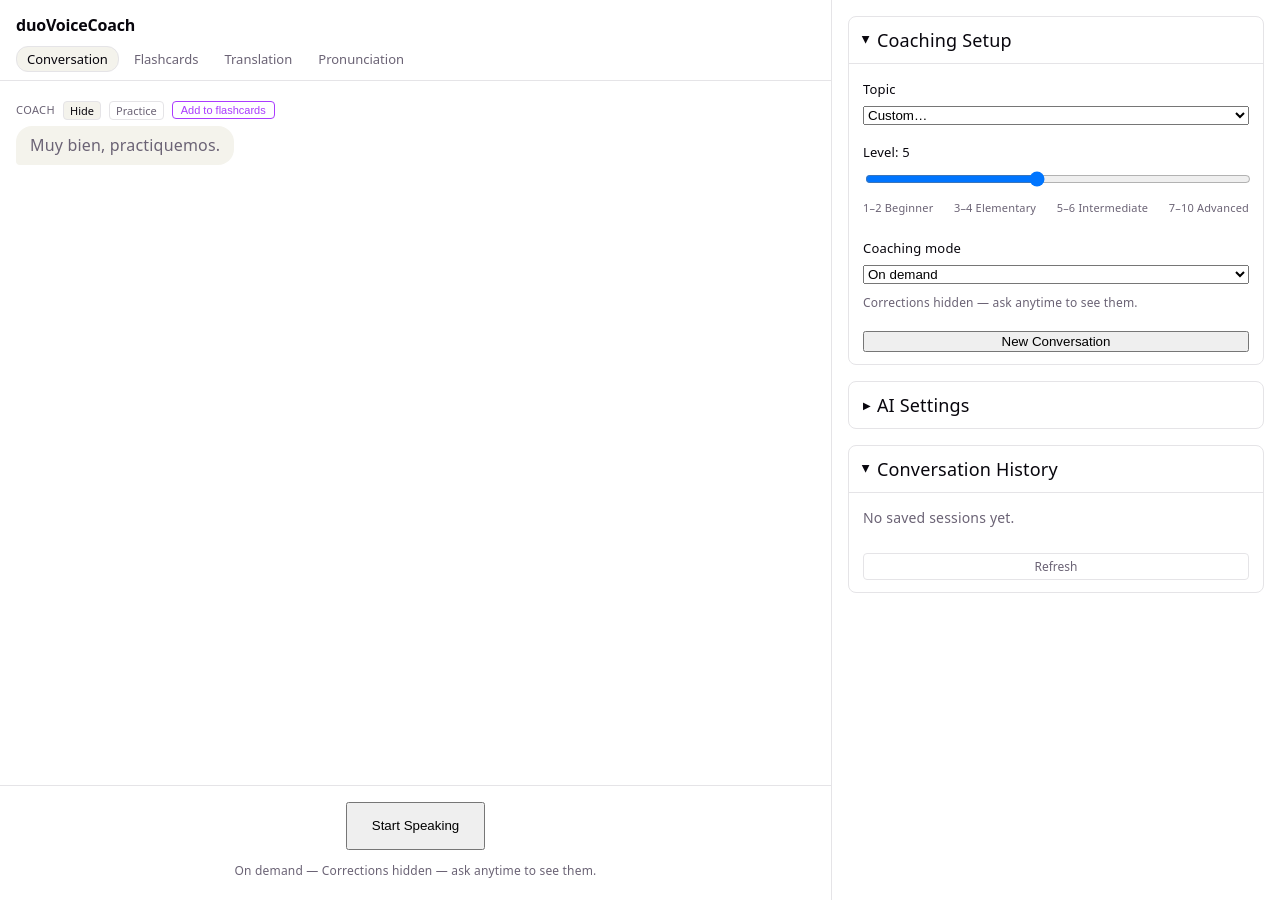
Test: App — Practice button cross-mode handoff › Back button in PronunciationView returns to conversation
Click the button "Practice".
click(136, 110)  # box [109,101,164,120]
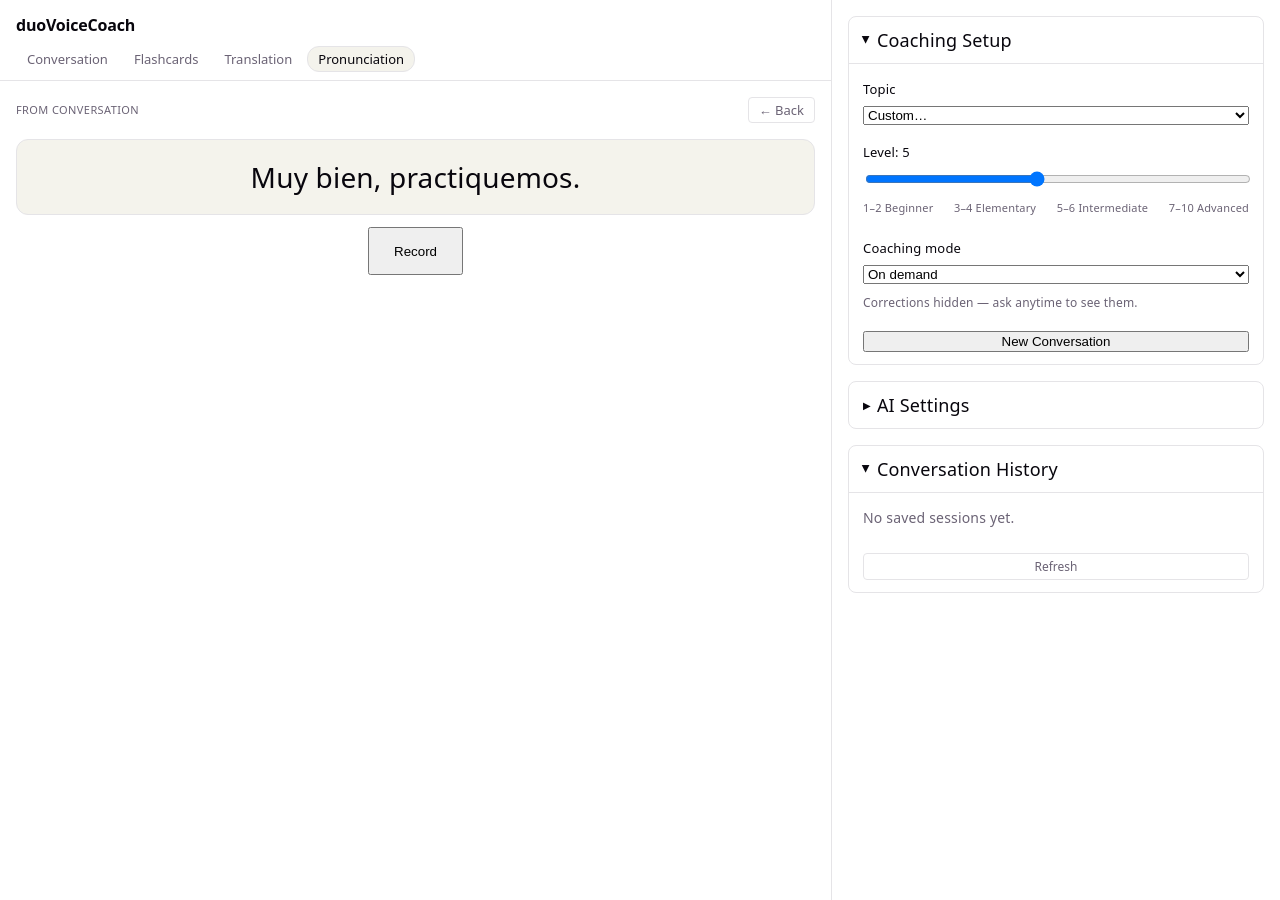
Click the button "← Back".
click(781, 110)  # box [748,97,815,123]
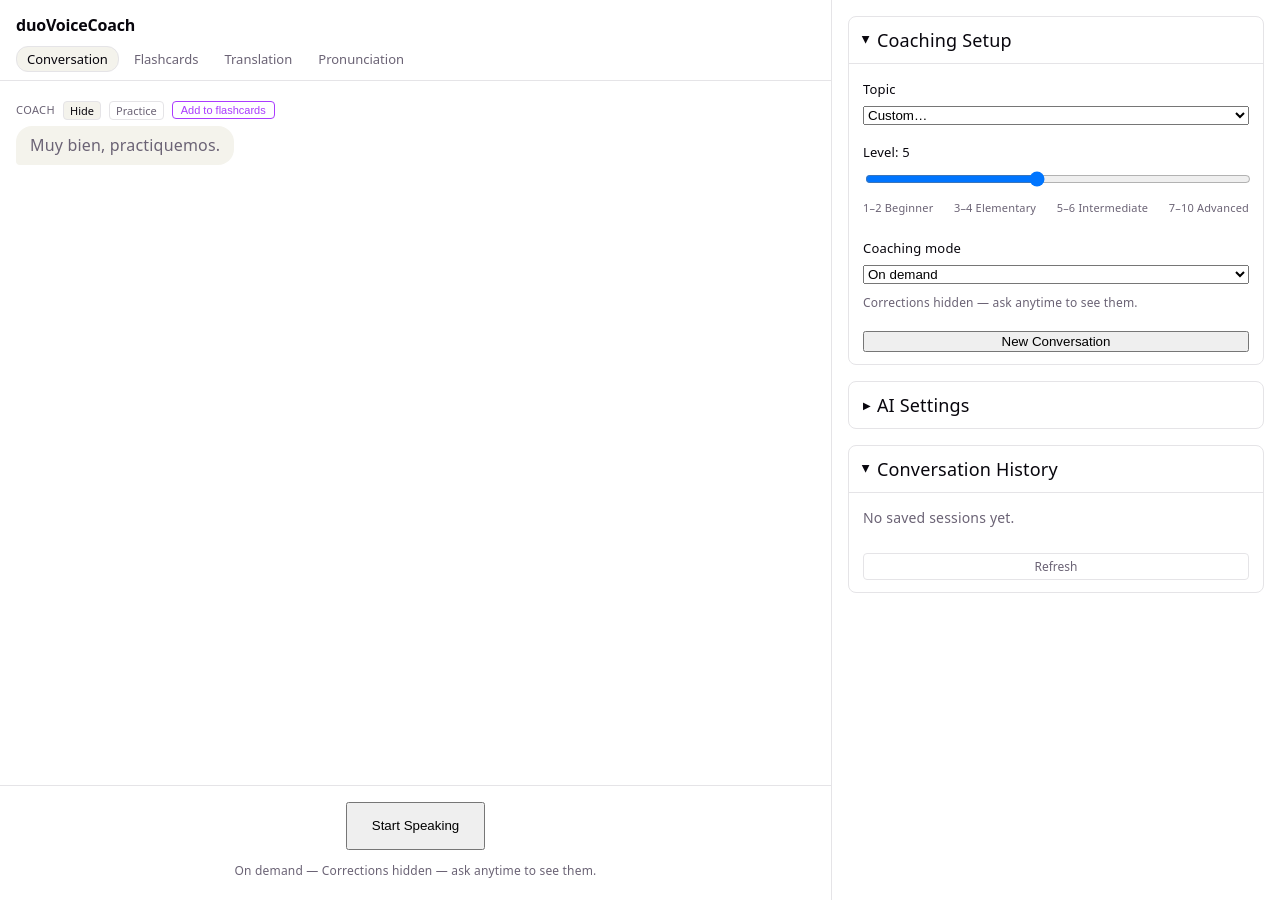
Expected: the element with class "transcript" is shown, [16,101,275,165]
